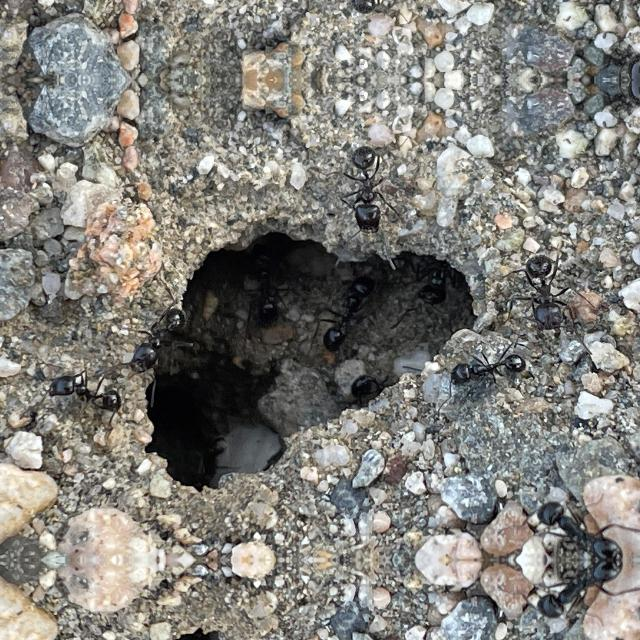Messor: (524, 476, 630, 560), (524, 560, 629, 640), (333, 138, 401, 242), (508, 242, 580, 340), (235, 250, 303, 334), (442, 349, 532, 398), (320, 272, 376, 350), (130, 294, 180, 378), (48, 373, 128, 419), (333, 0, 401, 22)
